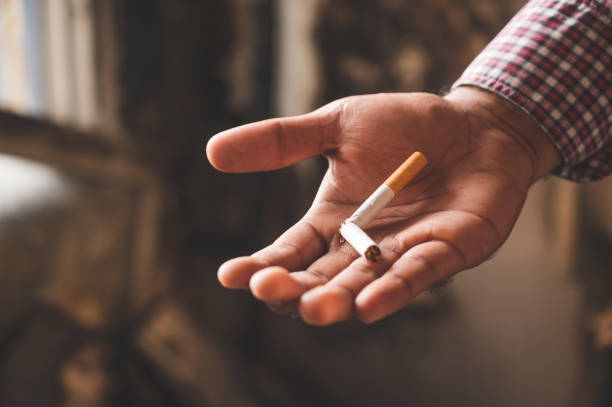cigarette: (338, 150, 429, 232), (337, 221, 382, 263)
